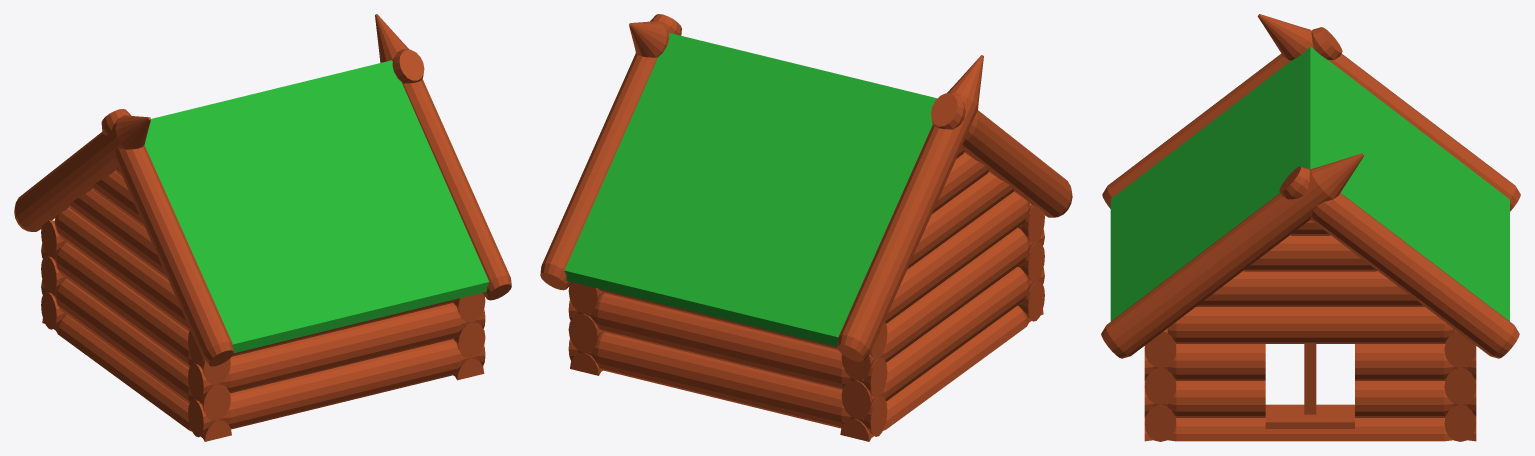
Rendered from beaver-house-livingarea_structure.glb.
3 views of the same model, side by side, from view 1: azimuth 30°, elevation 25°; view 2: azimuth 150°, elevation 25°; view 3: azimuth 270°, elevation 25° (orthographic). The views are drawn at different scales.
Visible parts, largest first — view 1: living-area; view 2: living-area; view 3: living-area.
Part boxes in pixels (x1,y1,x2,y2): living-area: (14,14,511,441); living-area: (540,14,1072,441); living-area: (1101,14,1520,441).
Bounding box in the file's own units: 0.7245 × 0.6433 × 0.8479.
